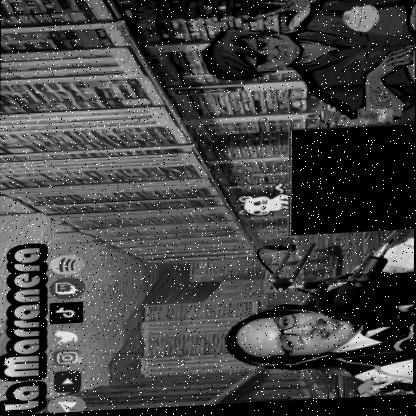streamer: (223, 243, 414, 394)
